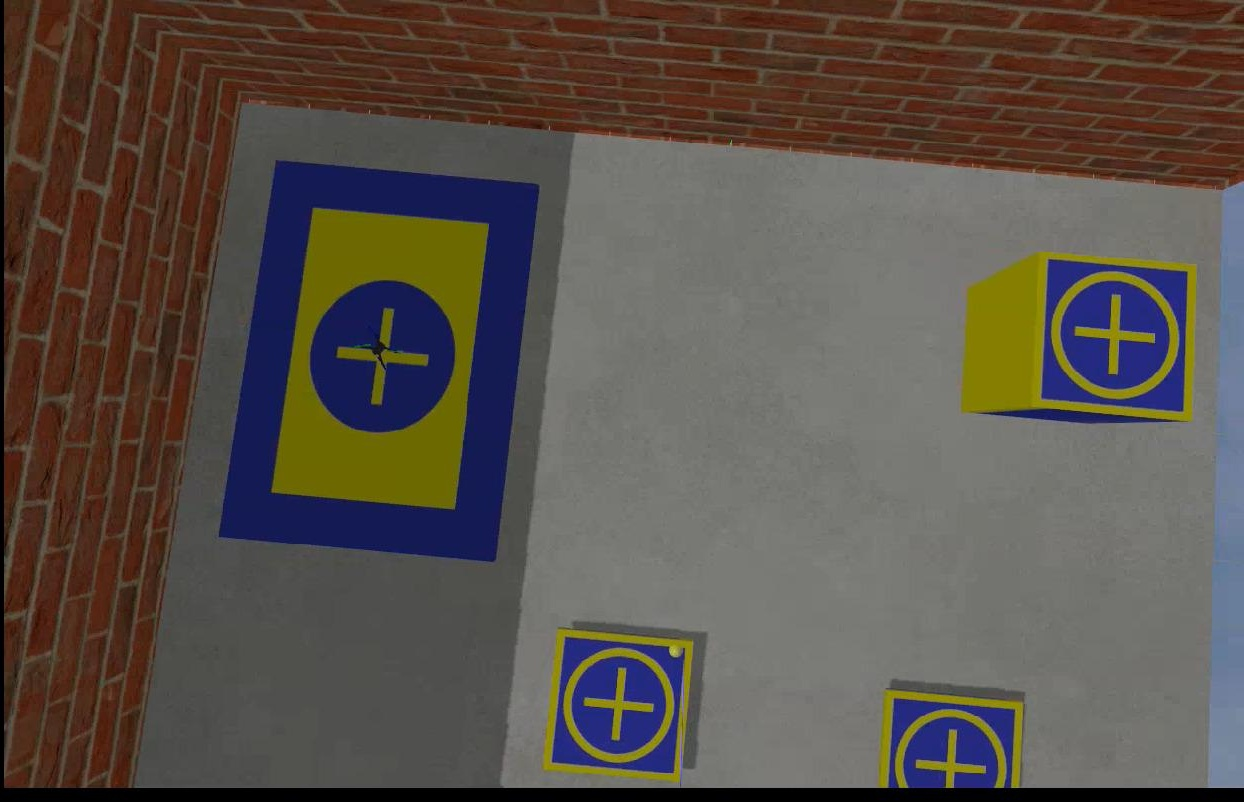large_base: (218, 164, 541, 563)
small_base: (1031, 254, 1194, 423), (543, 627, 696, 783), (879, 685, 1023, 791)
